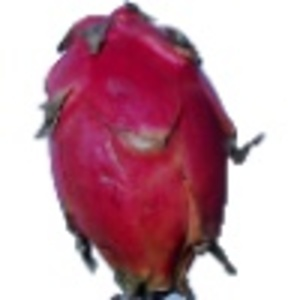pitaia: (34, 1, 267, 300)
